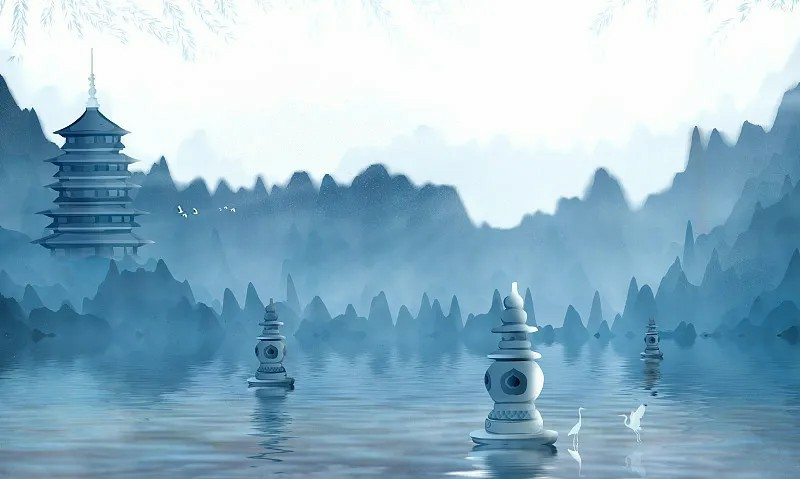Leifeng: (29, 47, 156, 260)
